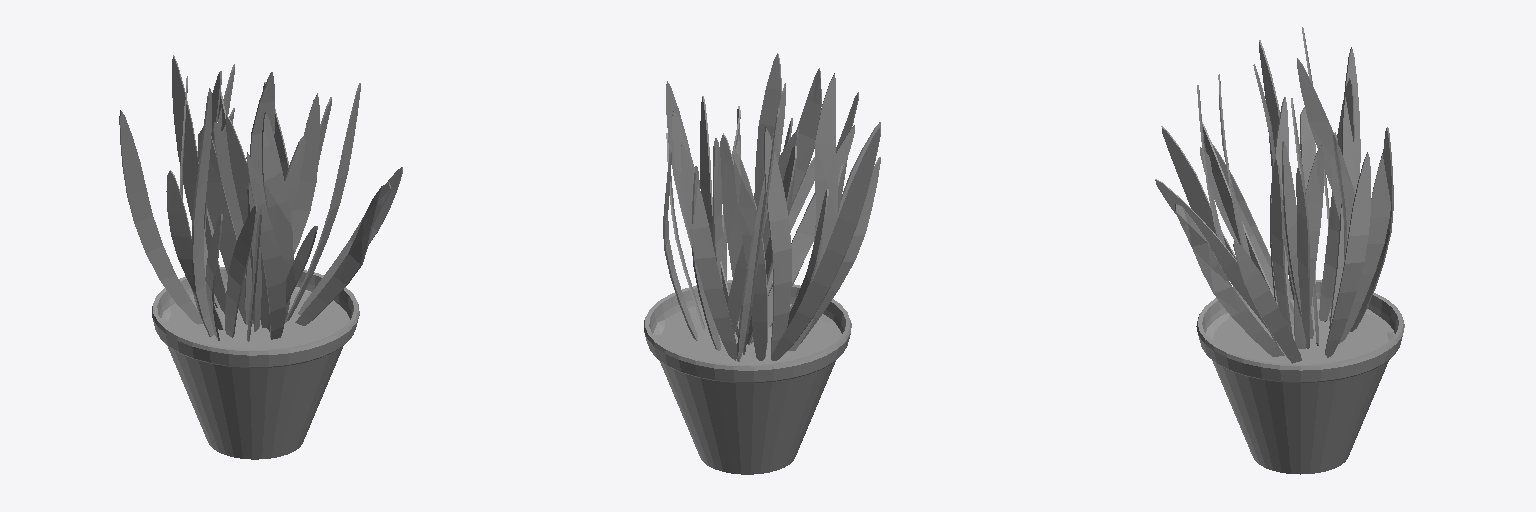
Rendered from plant.obj.
3 renders of one model, left to right at view 1: azimuth 30°, elevation 25°; view 2: azimuth 150°, elevation 25°; view 3: azimuth 270°, elevation 25°, orthographic.
Parts seen in each view (by area): view 1: plant_aloe, pot_aloe; view 2: plant_aloe, pot_aloe; view 3: plant_aloe, pot_aloe.
Part boxes in pixels (x1,y1,x2,y2): plant_aloe: (119, 55, 402, 341); pot_aloe: (152, 267, 359, 459); plant_aloe: (663, 53, 880, 361); pot_aloe: (644, 280, 851, 474); plant_aloe: (1155, 27, 1393, 363); pot_aloe: (1196, 280, 1404, 474).
Bounding box in the file's own units: 40.12 × 59.57 × 34.92.